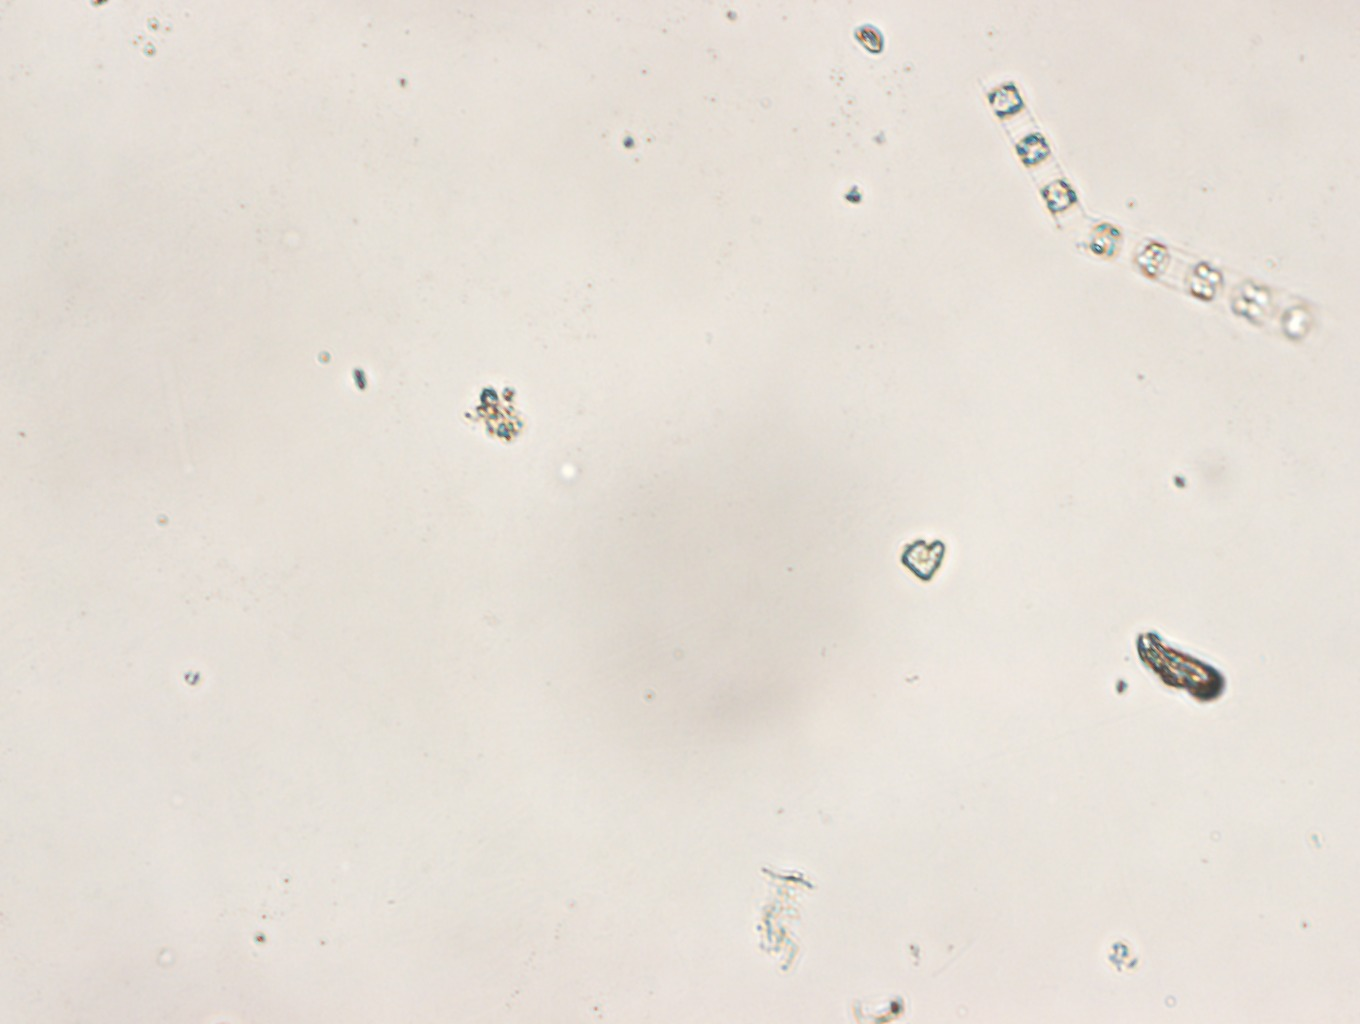skeletonema: (1077, 217, 1318, 341), (977, 79, 1082, 234)
